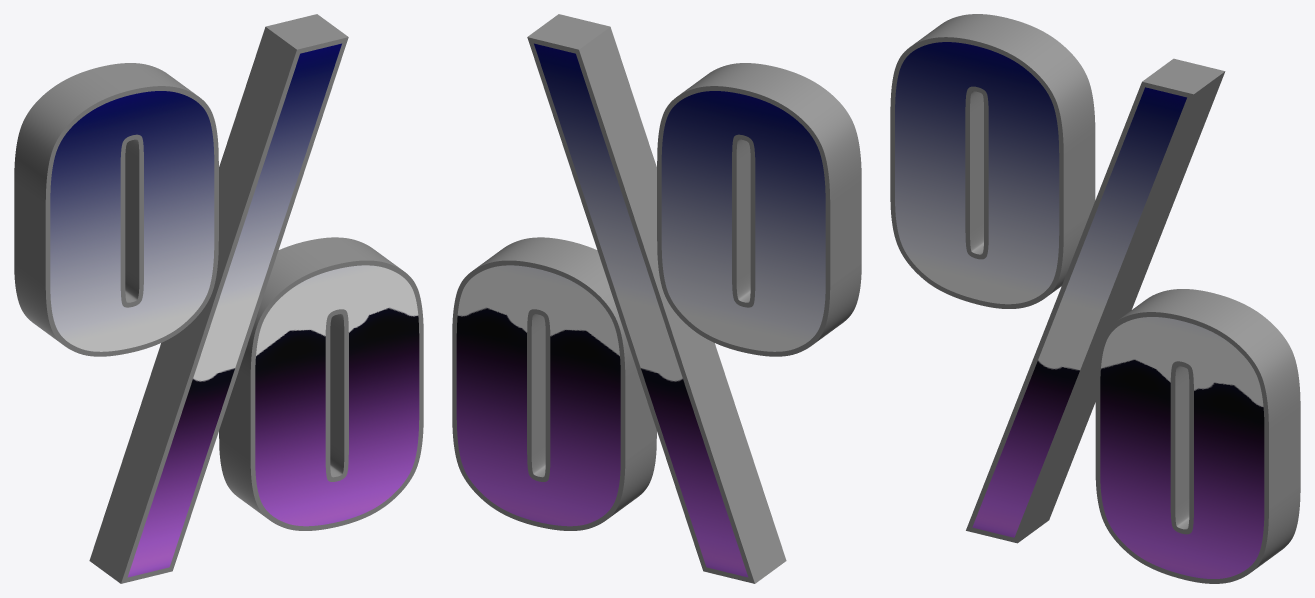
File: Interest.FBX
3 views of the same model, side by side, from view 1: azimuth 30°, elevation 25°; view 2: azimuth 150°, elevation 25°; view 3: azimuth 330°, elevation 25° (orthographic).
Parts seen in each view (by area): view 1: Interest, Interest_outline; view 2: Interest, Interest_outline; view 3: Interest, Interest_outline.
Part boxes in pixels (x1,y1,x2,y2): Interest: (50,43,419,577); Interest_outline: (14,14,423,583); Interest: (456,43,825,577); Interest_outline: (452,14,861,583); Interest: (895,42,1264,578); Interest_outline: (890,14,1300,583).
Bounding box in the file's own units: 83 × 103 × 12.
Materials: 2 (1 with a texture image).
